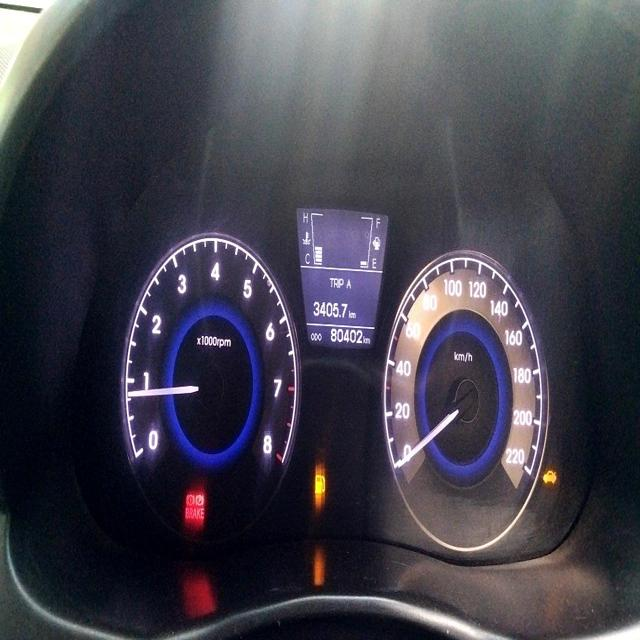odometer: (329, 324, 364, 348)
